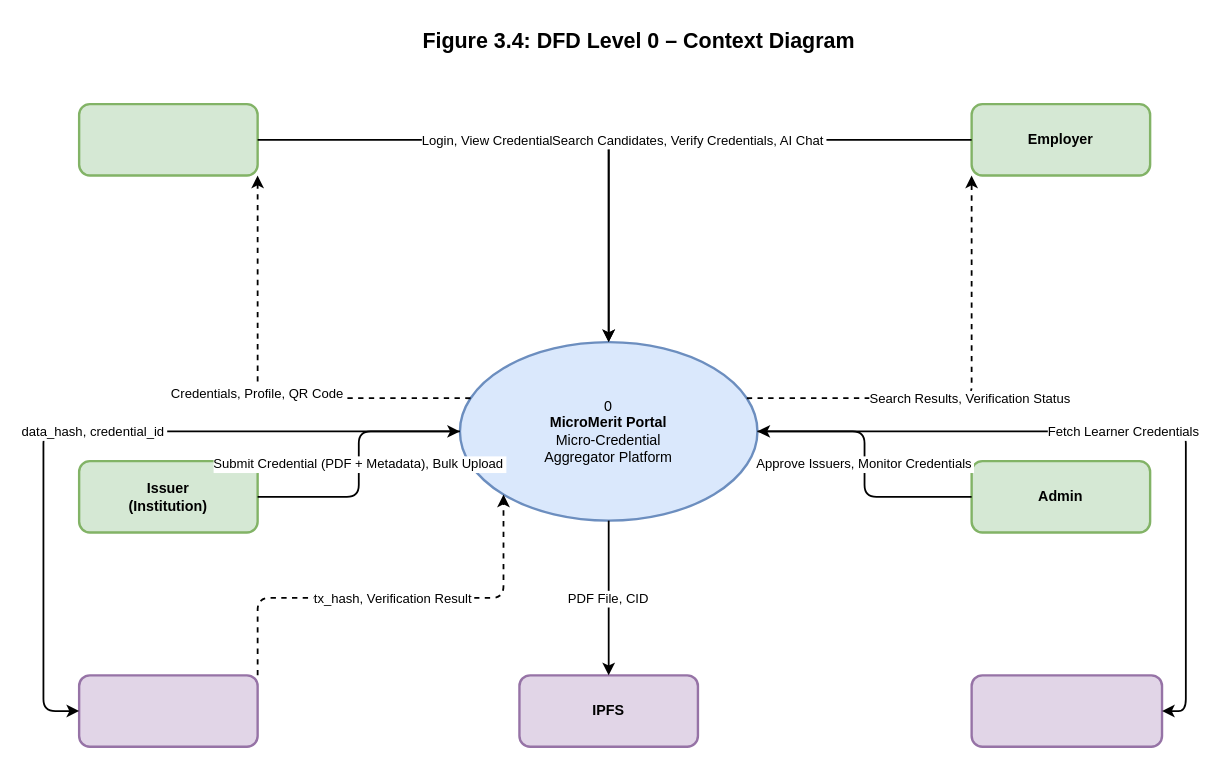
The diagram is 1221 pixels wide and 768 high, and some of its shapes have lost their labels. Each missing label, with the centre of its shape:
"Ethereum Blockchain" belongs at (167,710).
"External Credential Providers" belongs at (1066,710).
"Learner (Student)" belongs at (167,139).
